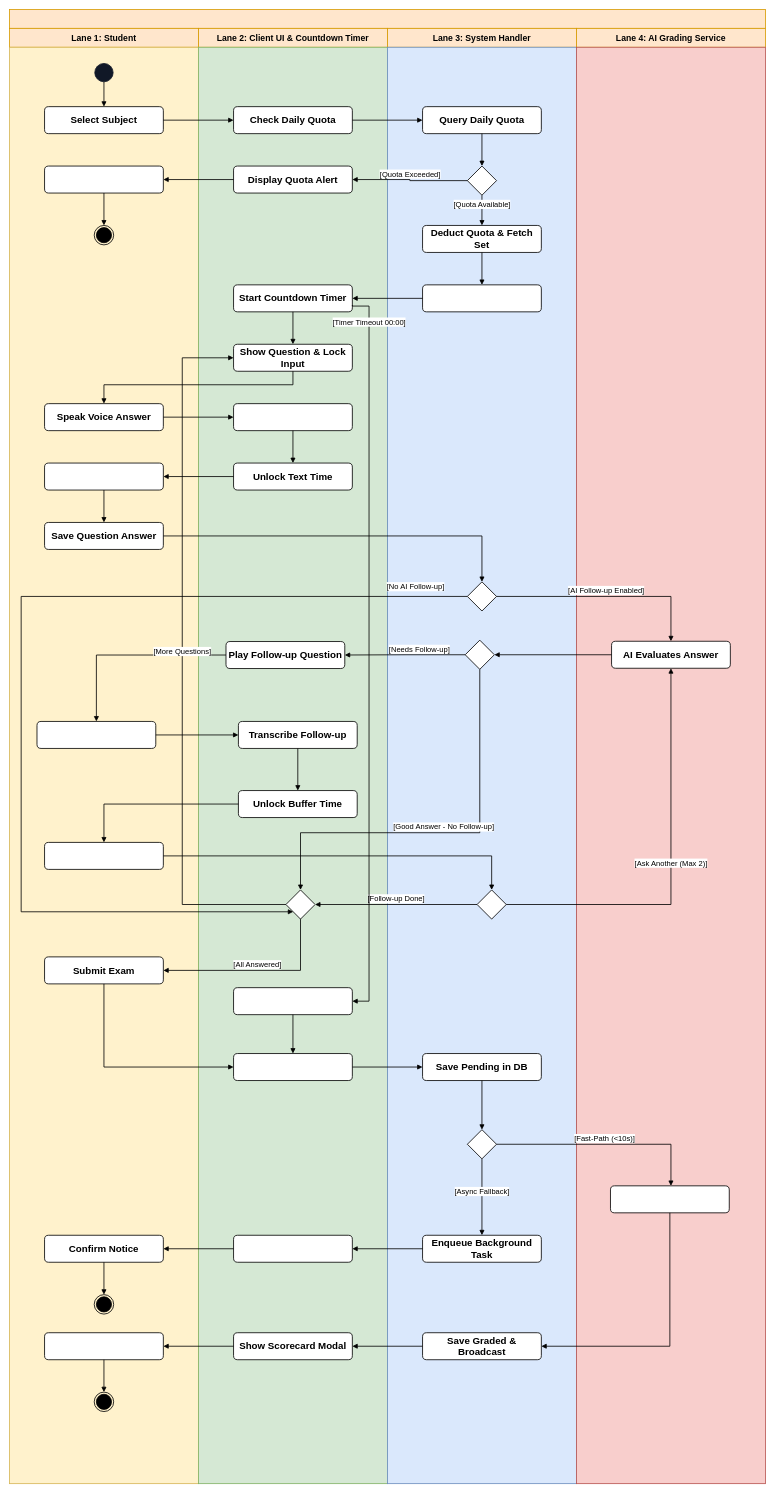
Some shapes in this 775 by 1494 pixel diagram are drawn without their labels. Here are the shapes that lost their labels. From the top down, the centre of each, then its label:
At point 387,19: "MF-02: Timed Mock Exam with Quota & AI Follow-up".
At point 104,179: "Confirm Daily Limit".
At point 482,298: "Start Server Timer".
At point 293,417: "Transcribe Voice Stream".
At point 104,476: "Fix Code-Switching".
At point 96,735: "Speak Follow-up Answer".
At point 104,856: "Fix Follow-up Text".
At point 293,1001: "Auto-Submit on Timeout".
At point 293,1067: "Send Exam Submission".
At point 669,1199: "Grade with Gemini AI".
At point 293,1248: "Show Async Notice".
At point 104,1346: "Review Scorecard".
